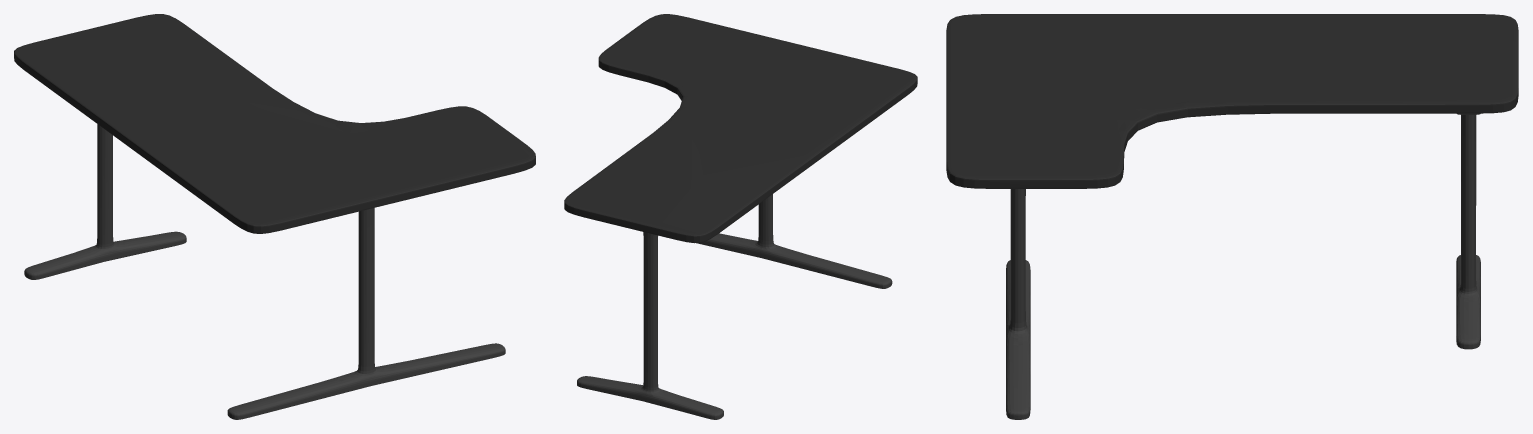
The picture shows the model from 3 angles, left to right: view 1: azimuth 30°, elevation 25°; view 2: azimuth 150°, elevation 25°; view 3: azimuth 270°, elevation 25°; orthographic projection. The views are drawn at different scales.
Parts seen in each view (by area): view 1: Plane; view 2: Plane; view 3: Plane.
Part boxes in pixels (bbox=[...]): Plane: bbox=[14, 14, 535, 419]; Plane: bbox=[564, 14, 917, 419]; Plane: bbox=[946, 14, 1518, 419].
Bounding box in the file's own units: 43.35 × 30.07 × 63.
2 materials, 1 textured.
